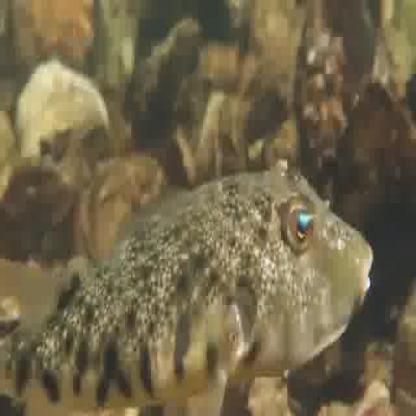Oyster- Indeterminate: (353, 384, 395, 416)
Oyster-Closed: (80, 152, 171, 267), (15, 62, 108, 164), (131, 18, 203, 140), (298, 22, 346, 200), (2, 162, 76, 232)
Oyster-Open: (332, 75, 416, 255)
